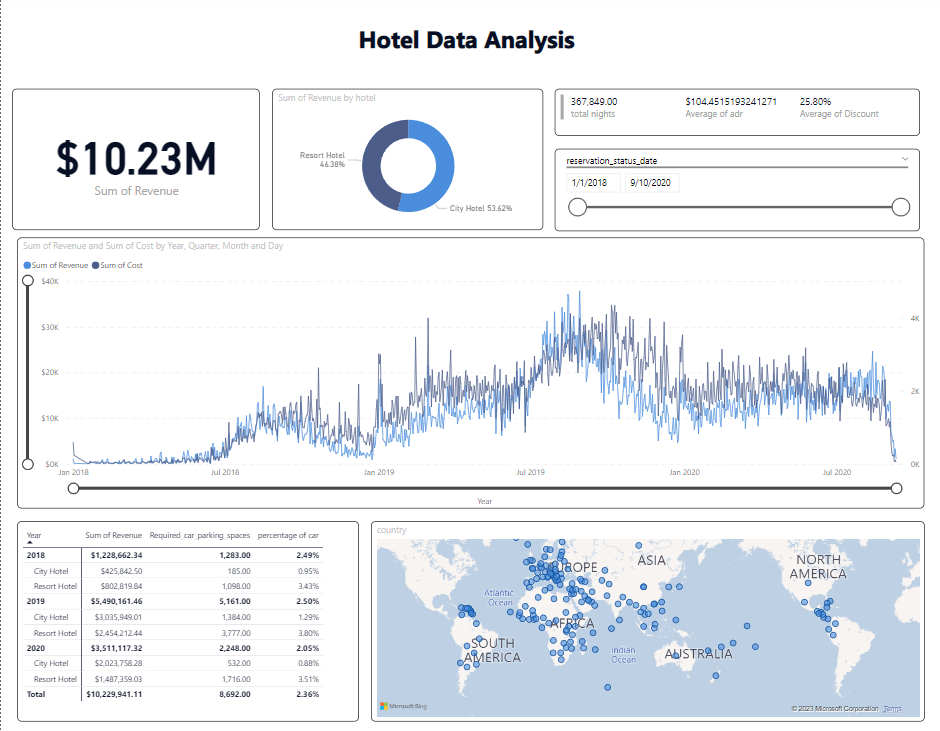

Layout of this report page (visuals, bound fields, positions):
{"tool":"powerbi","page":{"name":"Page 1","canvas":[1280,1000],"ordinal":0},"visuals":[{"type":"card","fields":{"Values":["Sum(Query1.Revenue)"]},"box":[16,128,336,192],"z":0},{"type":"multiRowCard","fields":{"Values":["Query1.total nights","Avg(Query1.adr)","Avg(Query1.Discount)"]},"box":[752,128,496,64],"z":1000},{"type":"lineChart","fields":{"Y":["Sum(Query1.Revenue)"],"Category":["Query1.reservation_status_date.Variation.Date Hierarchy.Year","Query1.reservation_status_date.Variation.Date Hierarchy.Quarter","Query1.reservation_status_date.Variation.Date Hierarchy.Month","Query1.reservation_status_date.Variation.Date Hierarchy.Day"],"Y2":["Sum(Query1.Cost)"]},"box":[22.1,330.2,1232,368],"z":2000},{"type":"slicer","fields":{"Values":["Query1.reservation_status_date"]},"box":[752,208,496,112],"z":3000},{"type":"map","fields":{"Category":["Query1.country"]},"box":[502.1,714.2,752,272],"z":4000},{"type":"pivotTable","fields":{"Rows":["Query1.reservation_status_date.Variation.Date Hierarchy.Year","Query1.hotel"],"Values":["Sum(Query1.Revenue)","Sum(Query1.required_car_parking_spaces)","Query1.percentage of car"]},"box":[22.1,714.2,464,272],"z":5000},{"type":"donutChart","fields":{"Category":["Query1.hotel"],"Y":["Sum(Query1.Revenue)"]},"box":[368,128,368,192],"z":5001},{"type":"textbox","box":[480,32,320,64],"z":5002}]}

Visuals, with their boxes in screenshot pixels (x1, y1, x2, y2), scaled from the page's 1280x1000 canvas onto the 940x731 screenshot:
card - Sum(Query1.Revenue): Rect(12, 94, 258, 234)
multiRowCard - Query1.total nights x Avg(Query1.adr): Rect(552, 94, 916, 140)
lineChart - Sum(Query1.Revenue) x Query1.reservation_status_date.Variation.Date Hierarchy.Year: Rect(16, 241, 921, 510)
slicer - Query1.reservation_status_date: Rect(552, 152, 916, 234)
map - Query1.country: Rect(369, 522, 921, 721)
pivotTable - Query1.reservation_status_date.Variation.Date Hierarchy.Year x Query1.hotel: Rect(16, 522, 357, 721)
donutChart - Query1.hotel x Sum(Query1.Revenue): Rect(270, 94, 540, 234)
textbox: Rect(352, 23, 588, 70)
